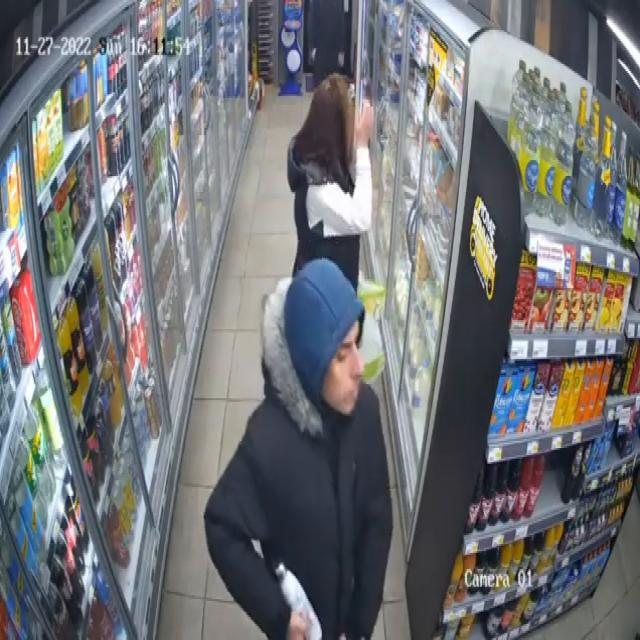article: (276, 564, 321, 638)
bags: (358, 279, 385, 380)
hands: (355, 100, 372, 146), (288, 612, 307, 638)
person: (204, 258, 391, 638), (287, 75, 372, 290)
